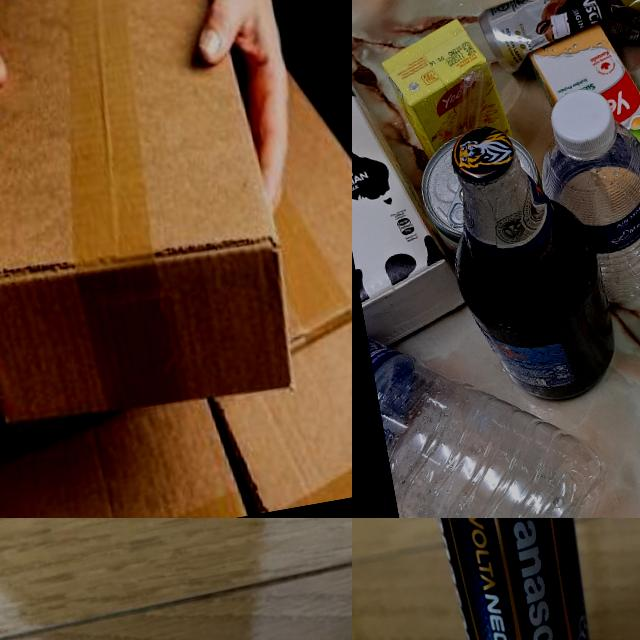aba de lata: (442, 183, 472, 228)
bateria: (407, 518, 615, 640)
caixinha: (352, 9, 471, 351), (527, 11, 640, 213), (375, 12, 517, 165)
garrafa de vidro: (432, 109, 626, 412)
garrafa plástica: (366, 296, 625, 518), (536, 123, 640, 311)
lata: (412, 123, 552, 261), (472, 0, 640, 77)
papelão: (0, 0, 304, 441), (199, 253, 352, 517), (240, 46, 352, 355), (0, 386, 247, 518)
tampa plástica: (544, 84, 622, 163)
